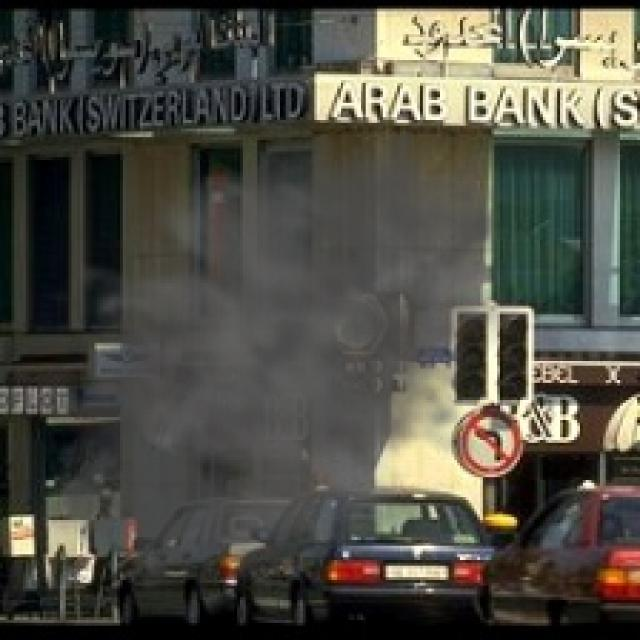smoke: (17, 94, 537, 626)
